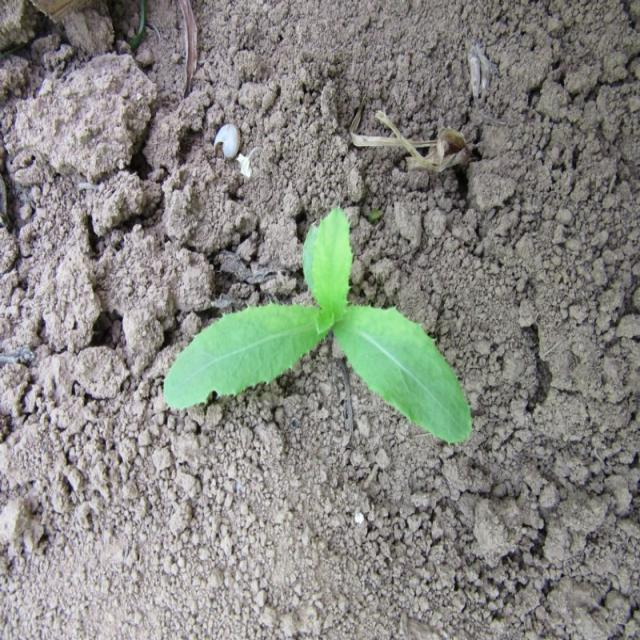field_thistle: (163, 208, 478, 458)
